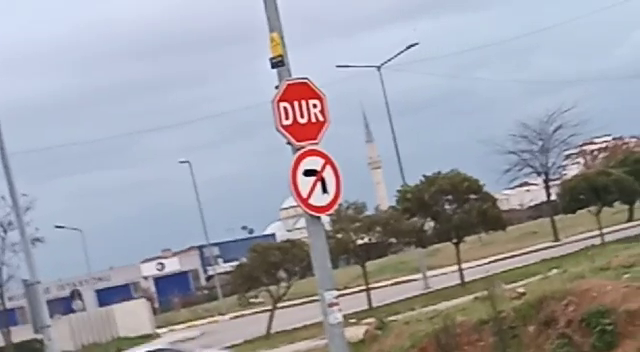no_left: (286, 146, 345, 220)
stop: (267, 74, 336, 149)
